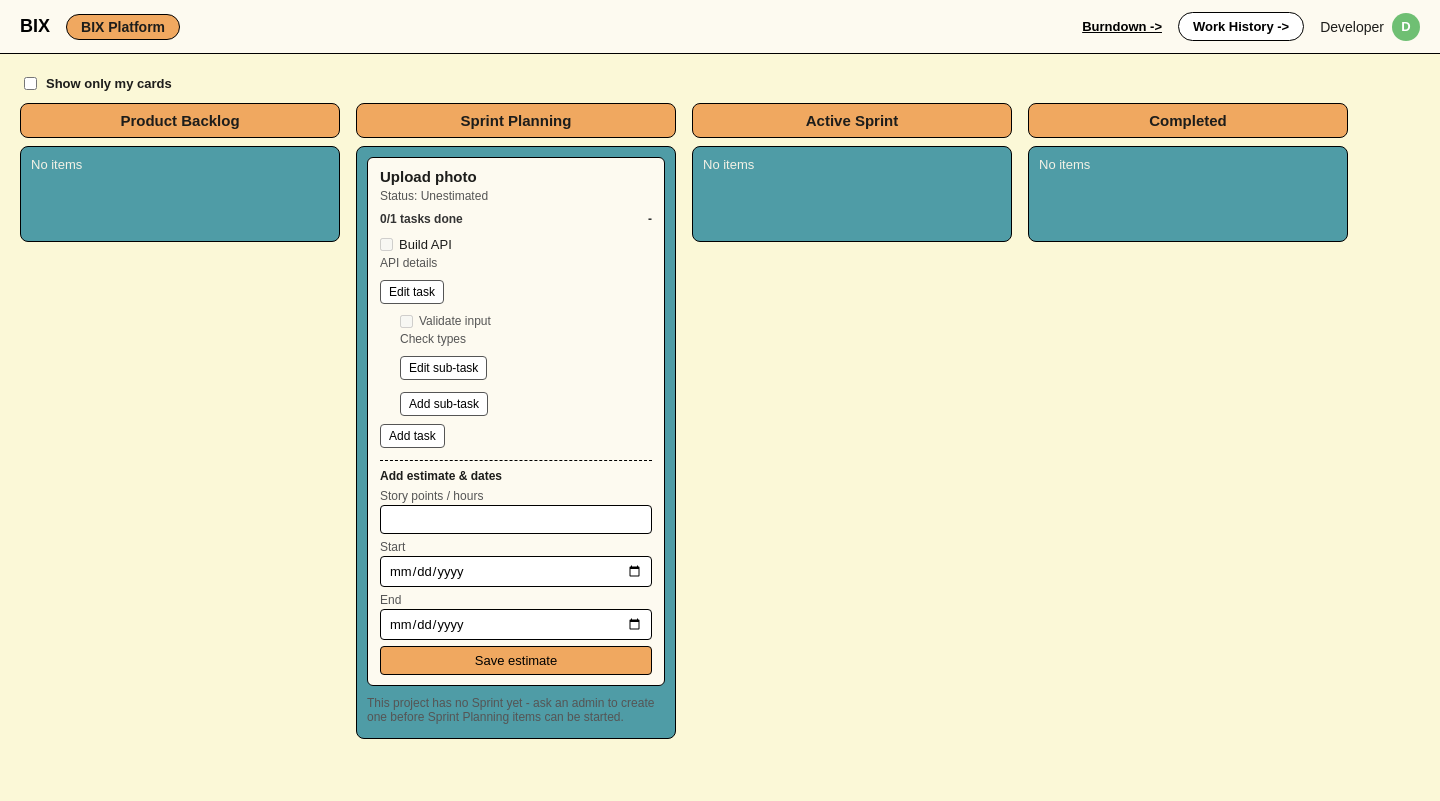
Test: Sprint Planning breakdown › creates a task under its existing parent and shows server-confirmed data
Click the button with aria-label "Add task to Upload photo".
click(412, 436)  # box left=380, top=424, right=445, bottom=448
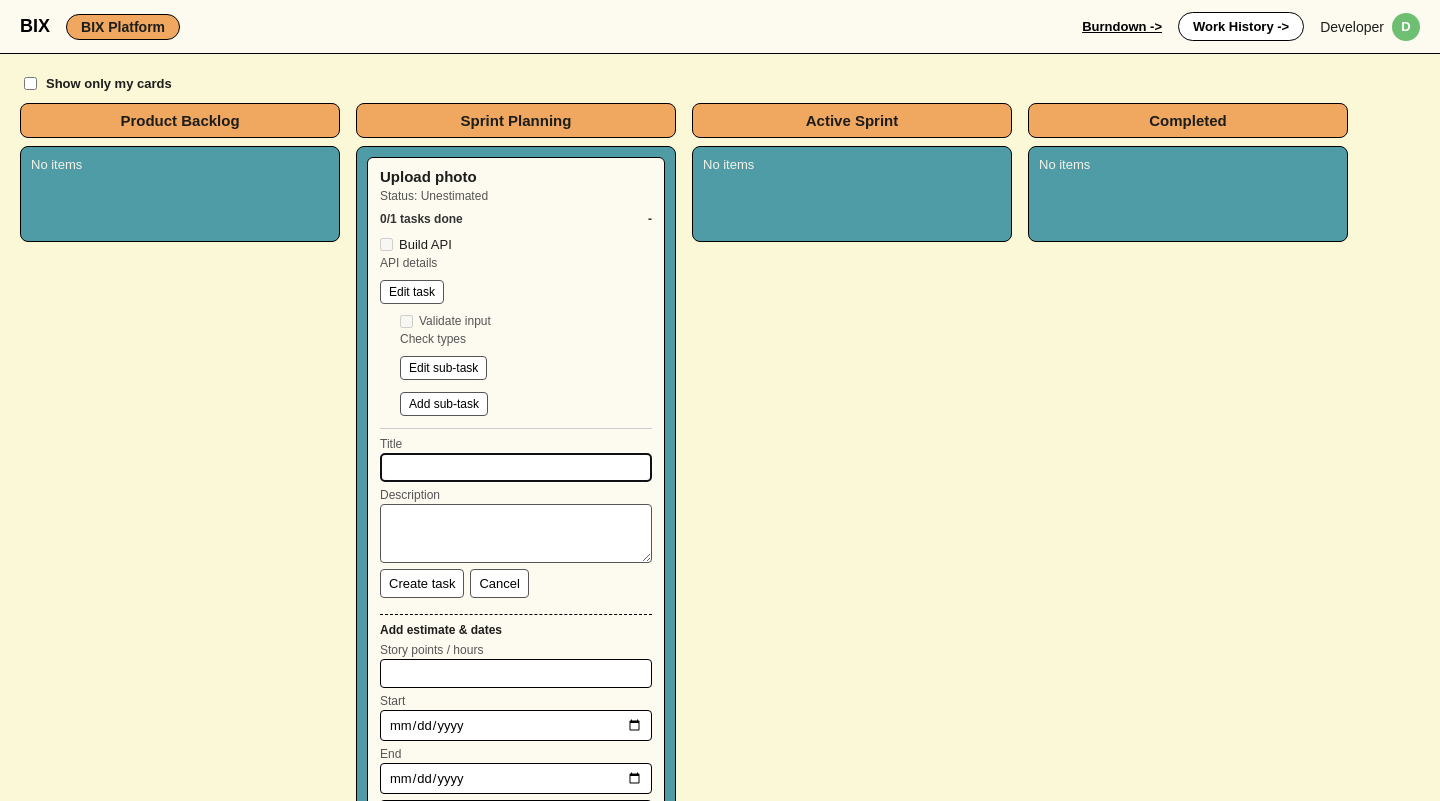
Type "  New work  " into the field named "task title: Upload photo".
click(516, 468); type("  New work  ")  # box left=380, top=453, right=652, bottom=482
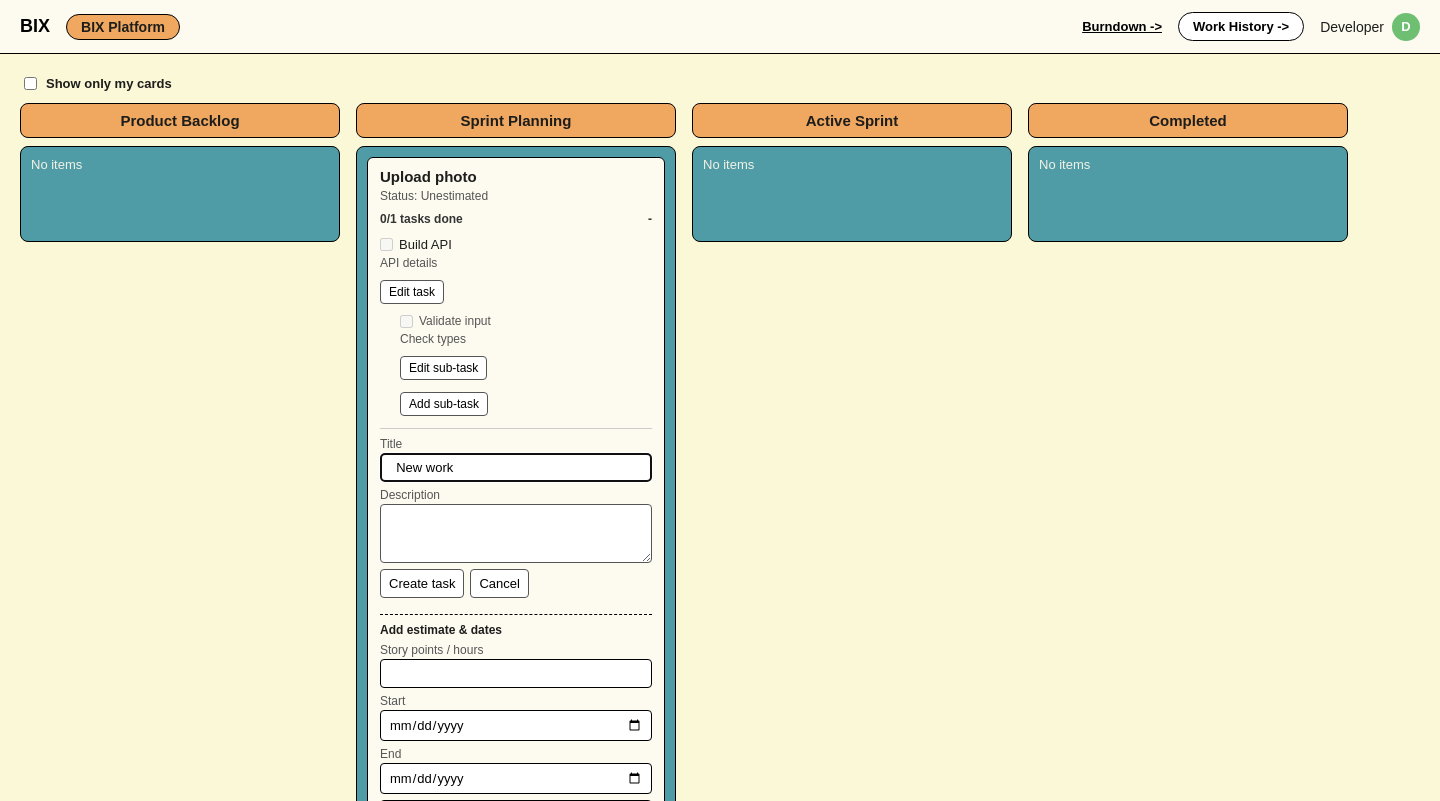
Type "Details" into the text box labelled "Description".
click(516, 534); type("Details")  # box left=380, top=504, right=652, bottom=563
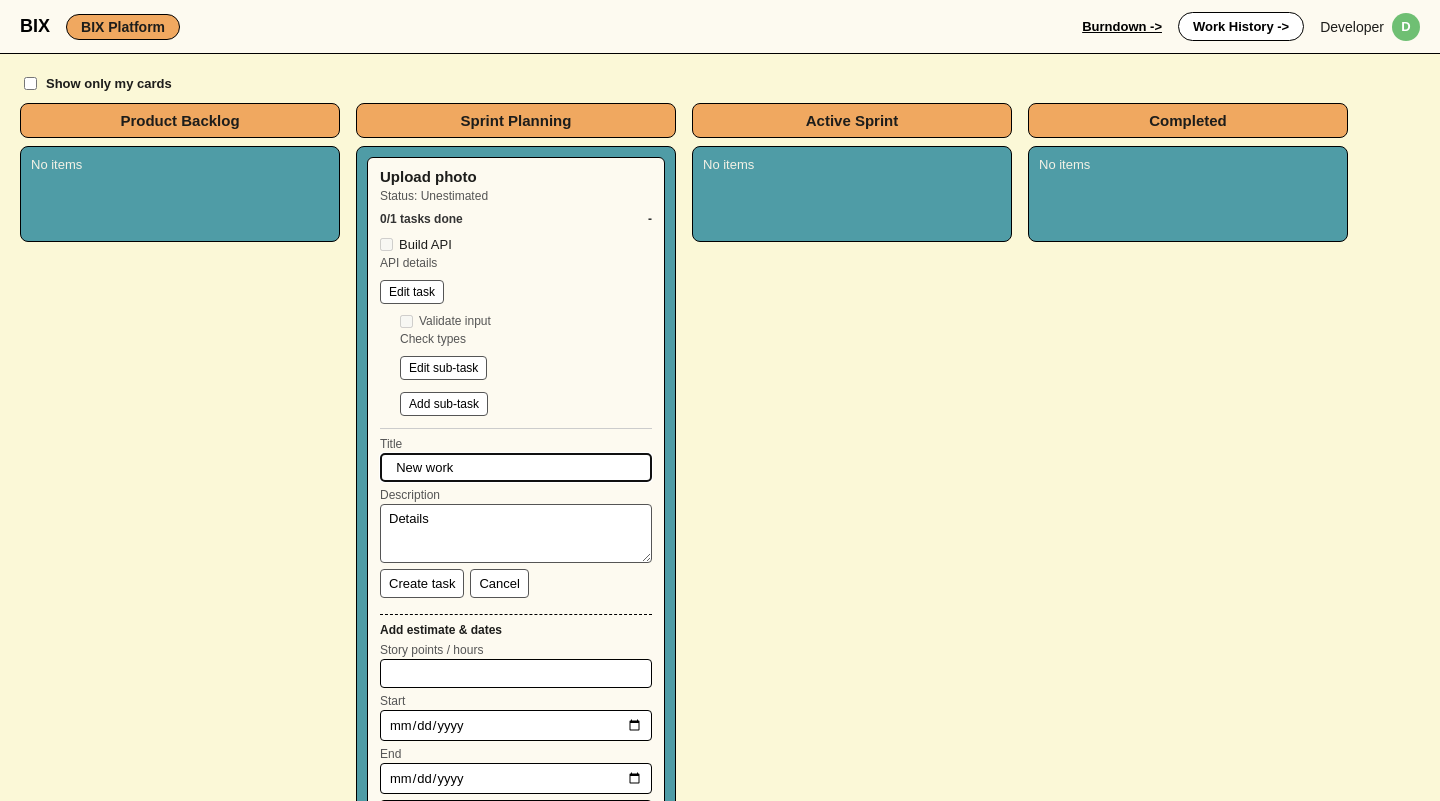
Click the button "Create task".
click(422, 584)  # box left=380, top=569, right=464, bottom=598
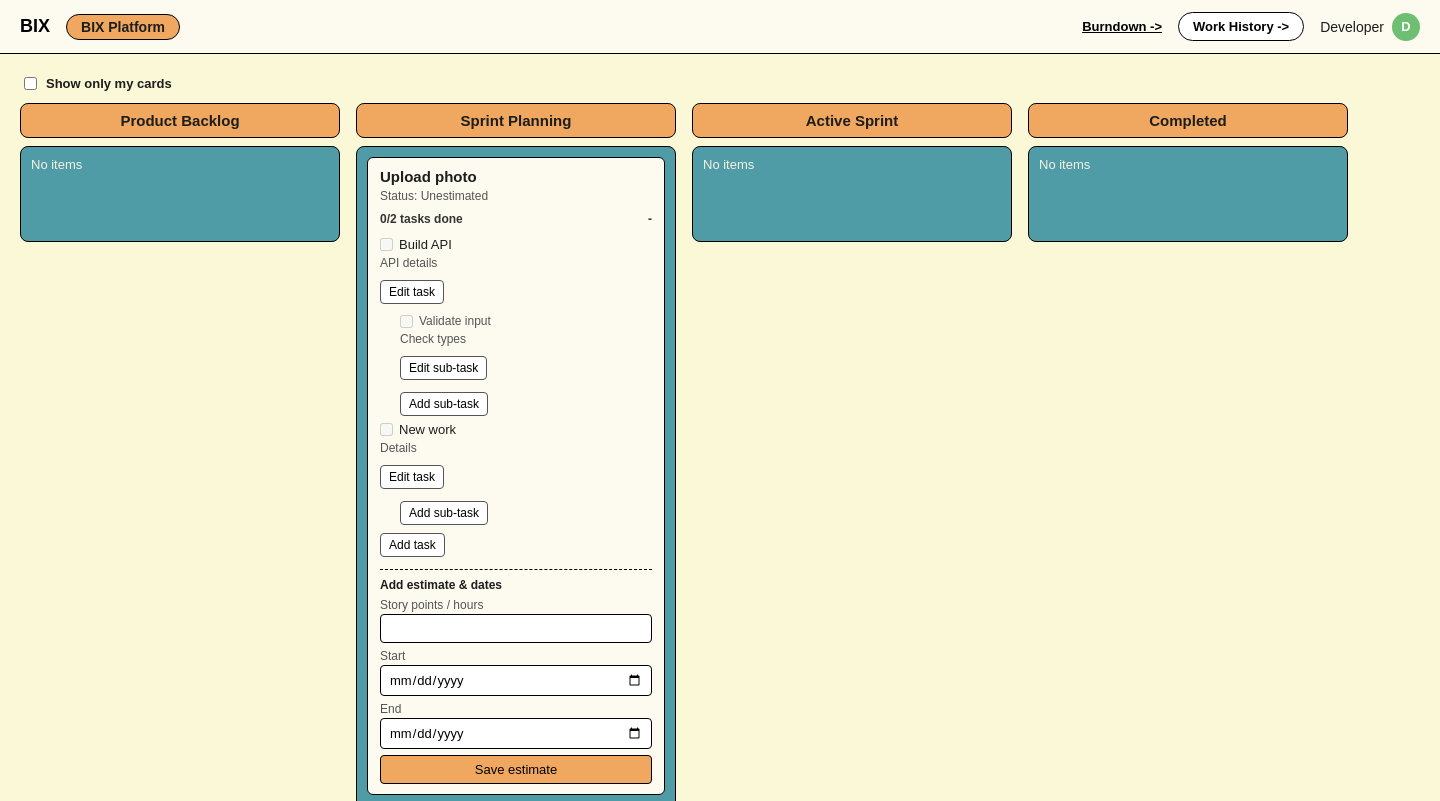
Expected: the number of headings "Upload photo" is 1, left=380, top=168, right=477, bottom=185
Result: the text "New work" is shown at left=399, top=422, right=456, bottom=437
